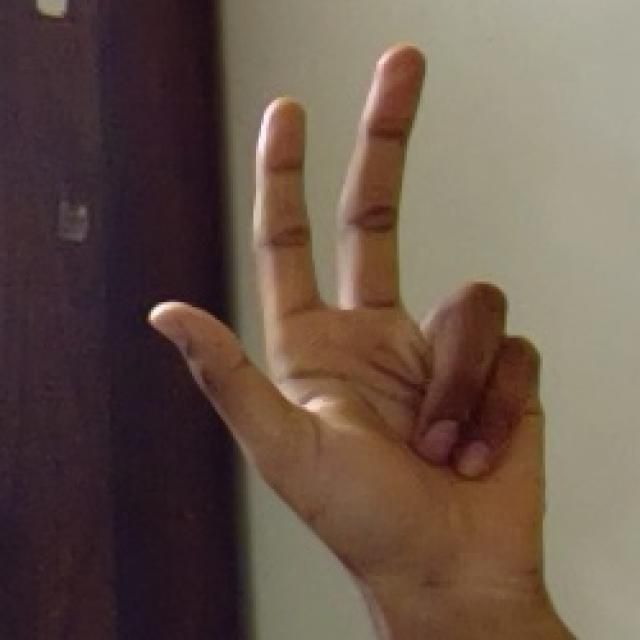Numeric-3: (153, 39, 547, 588)
